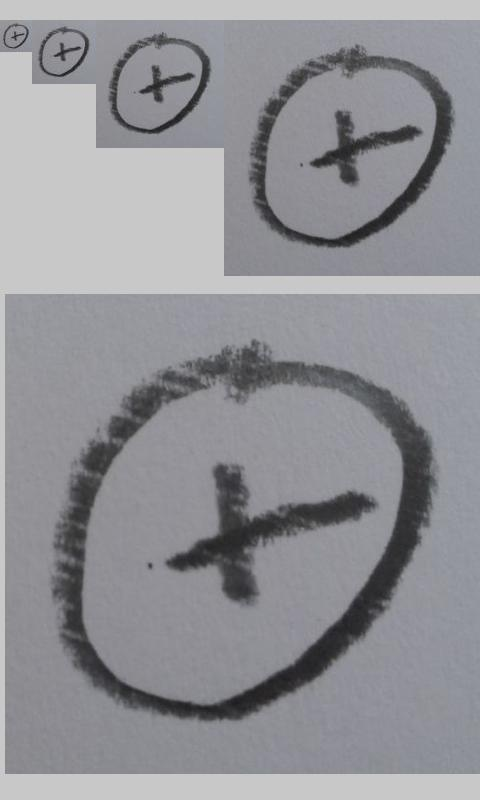button: (51, 342, 438, 724), (249, 44, 454, 249), (109, 33, 210, 135), (39, 27, 89, 77), (3, 23, 29, 49)
